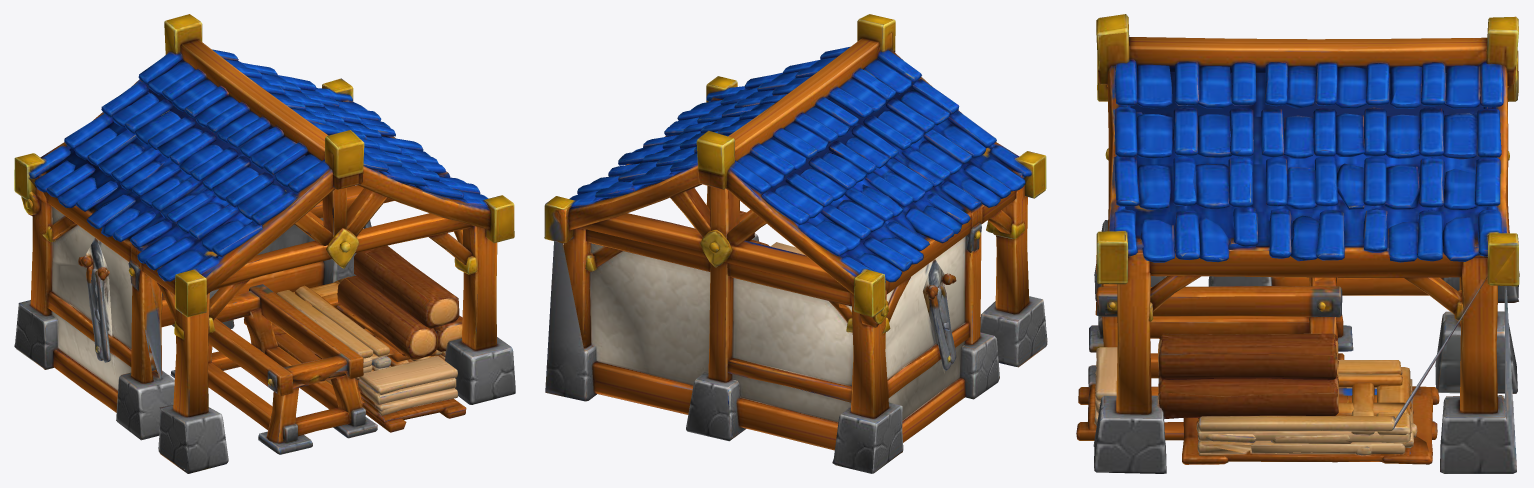
Rendered from aserradero_e4.glb.
3 renders of one model, left to right at view 1: azimuth 30°, elevation 25°; view 2: azimuth 150°, elevation 25°; view 3: azimuth 270°, elevation 25°, orthographic. The views are drawn at different scales.
Visible parts, largest first — view 1: aserradero_cuerpo; view 2: aserradero_cuerpo; view 3: aserradero_cuerpo.
Boxes of the visible parts, <box> form: aserradero_cuerpo: <box>14,14,515,473</box>; aserradero_cuerpo: <box>544,14,1047,473</box>; aserradero_cuerpo: <box>1076,14,1519,473</box>.
Size of the model in its own units: 1.9 by 1.64 by 1.84.
1 material, 1 textured.
